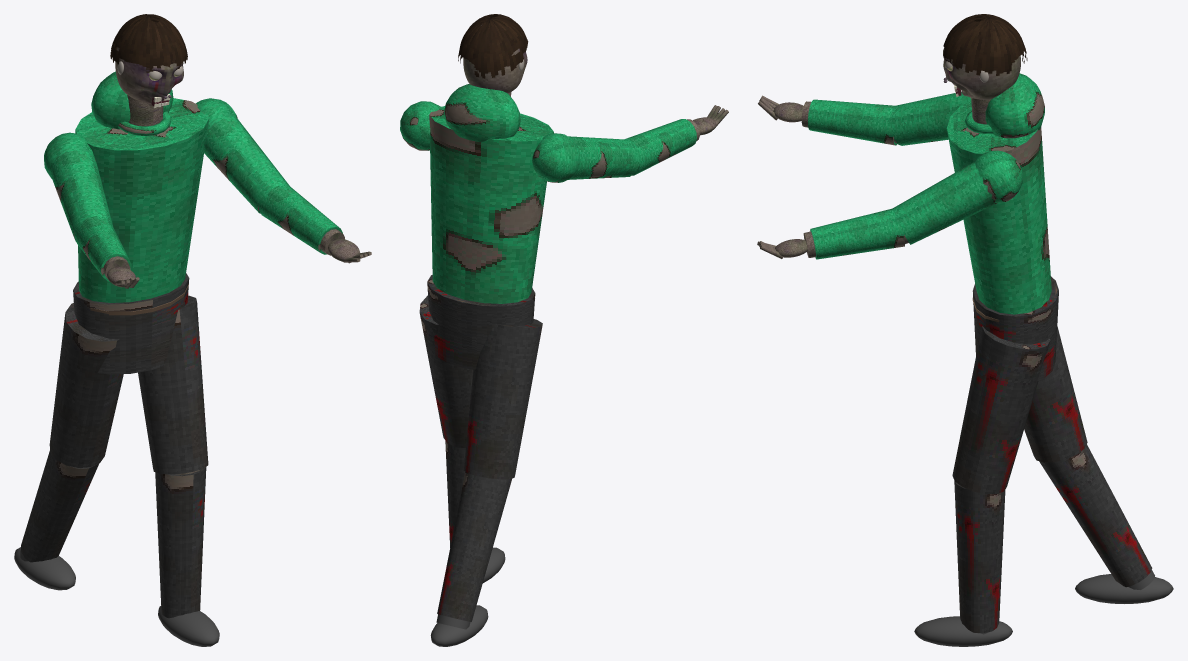
File: Zombie_042.glb
The picture shows the model from 3 angles, left to right: view 1: azimuth 30°, elevation 25°; view 2: azimuth 150°, elevation 25°; view 3: azimuth 270°, elevation 25°; orthographic projection. The views are drawn at different scales.
Visible parts, largest first — view 1: Zombie_042, object 45, object 12, object 4, object 18, object 13; view 2: Zombie_042, object 45, object 4, object 18; view 3: Zombie_042, object 45, object 12, object 4, object 18.
Part boxes in pixels (x1,y1,x2,y2): Zombie_042: (14, 71, 289, 646); object 45: (110, 14, 187, 69); object 12: (259, 184, 342, 254); object 4: (74, 216, 131, 281); object 18: (115, 47, 183, 106); object 13: (328, 239, 359, 261); Zombie_042: (400, 84, 640, 646); object 45: (458, 14, 528, 76); object 4: (625, 119, 696, 175); object 18: (463, 24, 527, 93); Zombie_042: (890, 73, 1173, 646); object 45: (943, 14, 1027, 73); object 12: (810, 208, 904, 259); object 4: (807, 99, 897, 145); object 18: (943, 48, 1020, 99).
Size of the model in its own units: 0.8055 by 1.9 by 1.17.
Materials: 16 (6 with a texture image).
